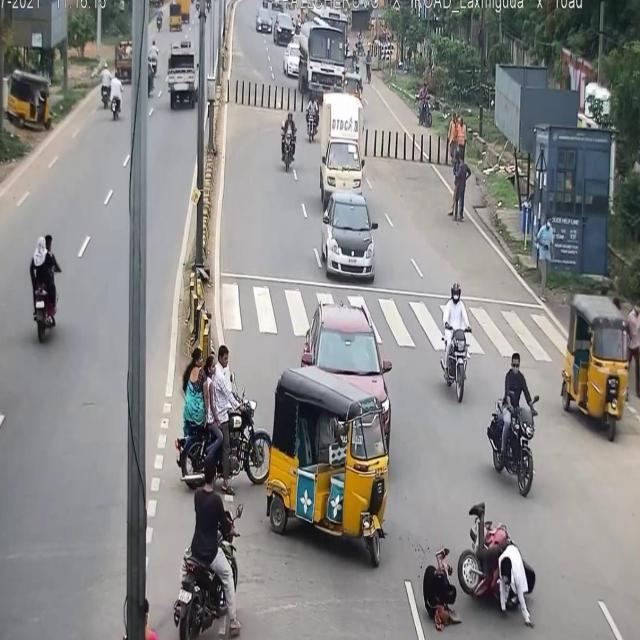accident: (415, 492, 539, 640)
non_accident: (278, 22, 376, 289), (253, 7, 295, 53), (164, 0, 193, 43)
